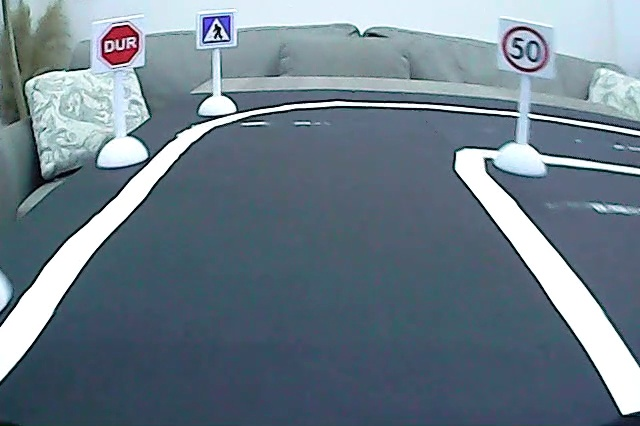pedestrian crossing: (199, 13, 234, 48)
speed limit 50: (499, 22, 551, 75)
stop sign: (98, 20, 143, 70)
